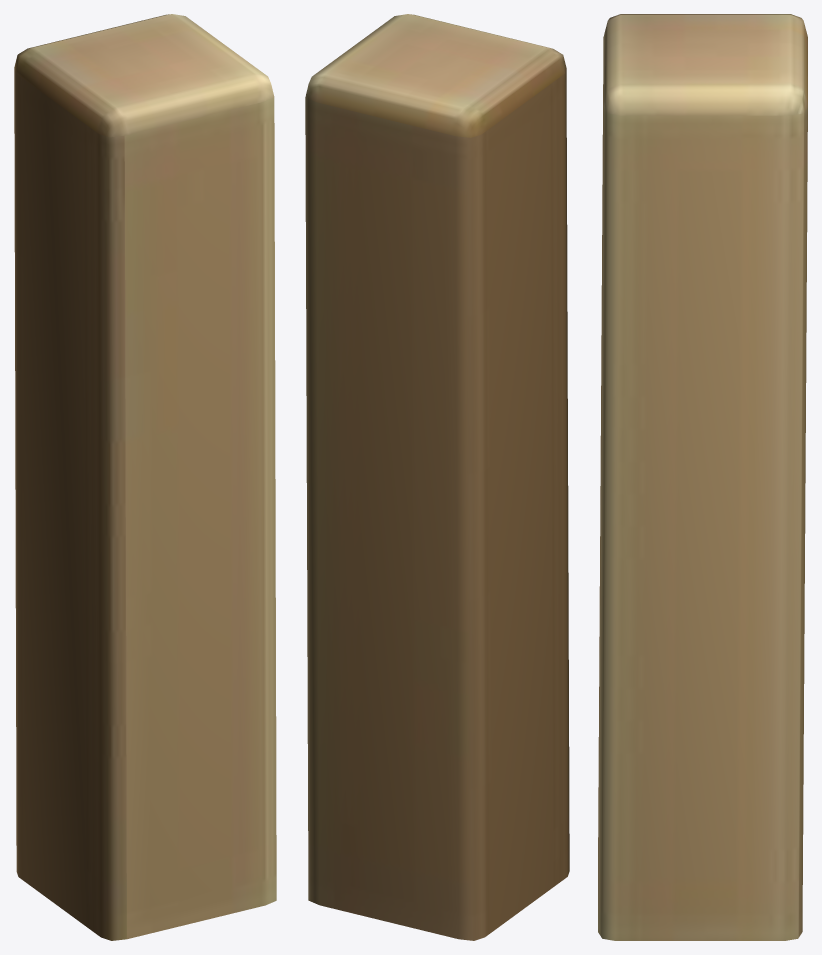
The model's file is ZhaLan01.FBX.
The picture shows the model from 3 angles, left to right: view 1: azimuth 30°, elevation 25°; view 2: azimuth 150°, elevation 25°; view 3: azimuth 270°, elevation 25°; orthographic projection. The views are drawn at different scales.
Visible parts, largest first — view 1: ZhaLan01; view 2: ZhaLan01; view 3: ZhaLan01.
Boxes of the visible parts, x1,y1,x2,y2 form: ZhaLan01: (14, 14, 276, 940); ZhaLan01: (305, 14, 569, 940); ZhaLan01: (598, 14, 807, 940).
Size of the model in its own units: 25.72 by 116 by 26.06.
